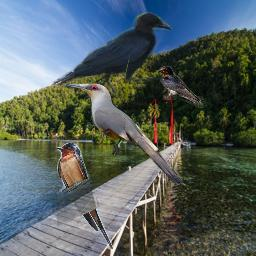Crow: (51, 12, 172, 98)
Cuckoo: (66, 82, 187, 188)
Swallow: (57, 142, 113, 249), (158, 66, 207, 109)
